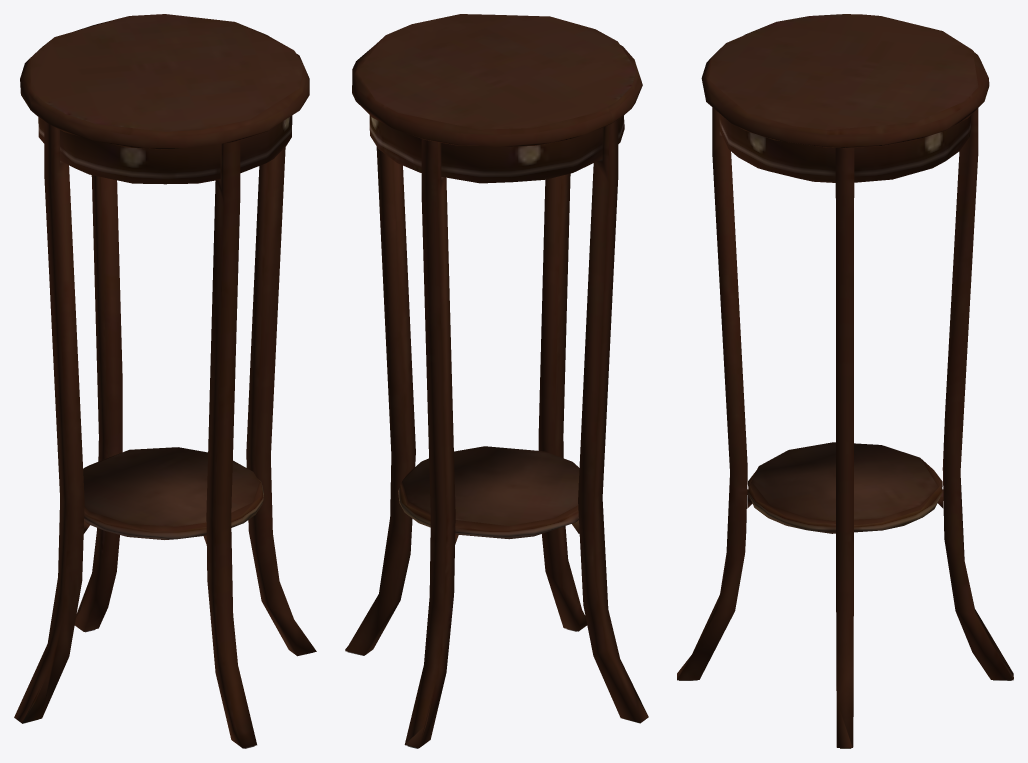
File: side_table_tall_01.glb
3 views of the same model, side by side, from view 1: azimuth 30°, elevation 25°; view 2: azimuth 150°, elevation 25°; view 3: azimuth 270°, elevation 25° (orthographic).
Visible parts, largest first — view 1: side_table_tall_01; view 2: side_table_tall_01; view 3: side_table_tall_01.
Part boxes in pixels (x1=…): side_table_tall_01: x1=14, y1=14, x2=316, y2=748; side_table_tall_01: x1=345, y1=14, x2=648, y2=748; side_table_tall_01: x1=677, y1=14, x2=1013, y2=748.
Bounding box in the file's own units: 0.3837 × 0.7611 × 0.3832.
Materials: 1 (1 with a texture image).
